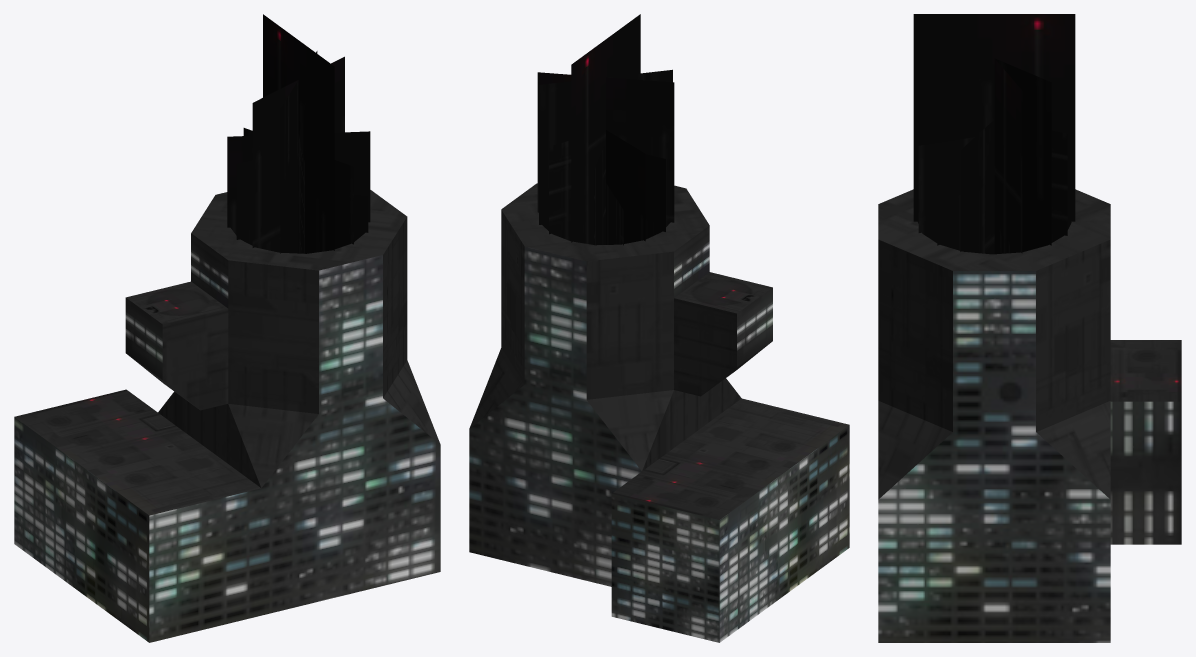
The model's file is scifi_building_25.obj.
3 views of the same model, side by side, from view 1: azimuth 30°, elevation 25°; view 2: azimuth 150°, elevation 25°; view 3: azimuth 270°, elevation 25° (orthographic). The views are drawn at different scales.
Parts seen in each view (by area): view 1: building_25; view 2: building_25; view 3: building_25.
Boxes of the visible parts, bbox=[...] form: building_25: bbox=[14, 14, 440, 642]; building_25: bbox=[469, 14, 849, 642]; building_25: bbox=[878, 14, 1181, 642].
Size of the model in its own units: 76.43 by 129 by 61.38.
1 material, 1 textured.
